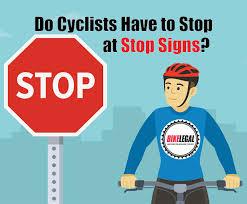stop sign: (4, 33, 107, 137)
